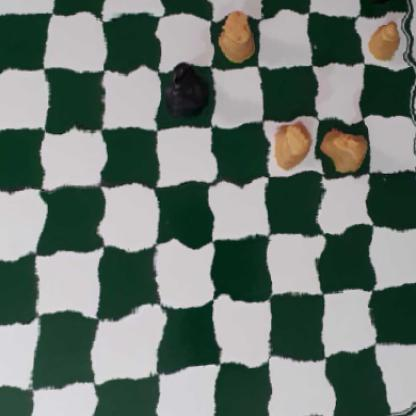black-king: (160, 63, 208, 122)
black-rook: (356, 0, 409, 5)
white-bishop: (322, 124, 368, 173)
white-king: (264, 118, 314, 172)
white-pawn: (365, 17, 401, 62)
white-rook: (215, 18, 259, 60)
